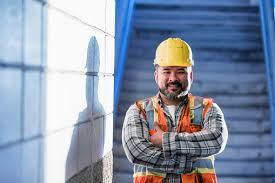Person_wearing_helmet: (149, 35, 196, 73)
